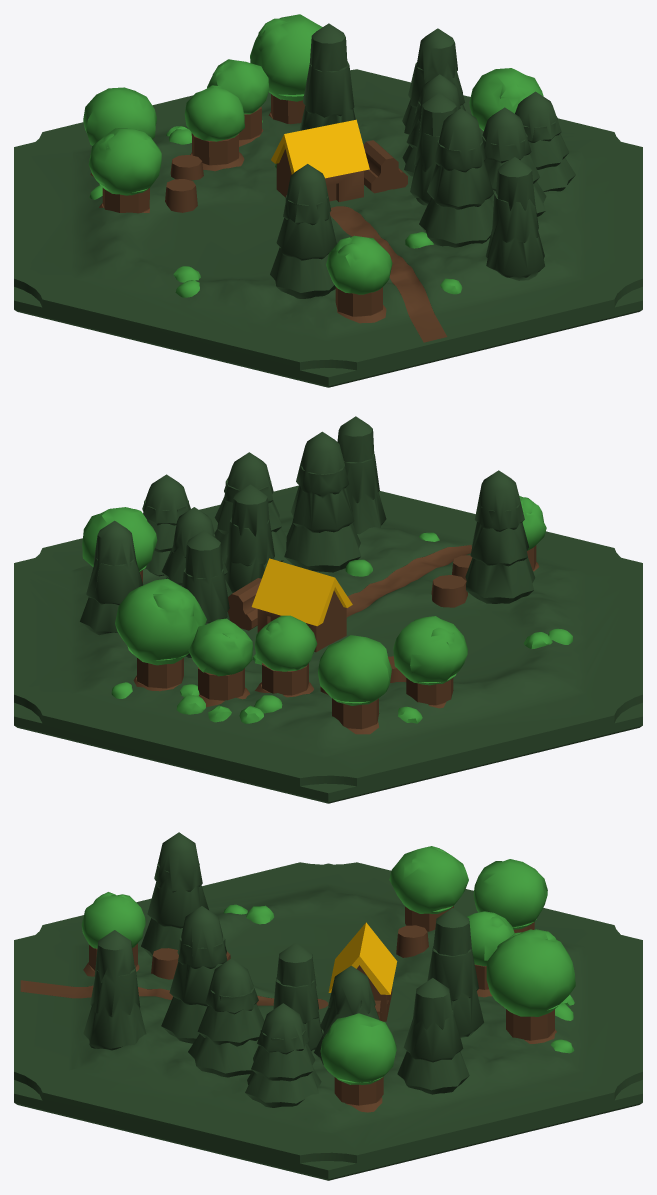
The model's file is wald_1.glb.
The picture shows the model from 3 angles, top to bottom: view 1: azimuth 30°, elevation 25°; view 2: azimuth 150°, elevation 25°; view 3: azimuth 270°, elevation 25°; orthographic projection.
Visible parts, largest first — view 1: wald_1; view 2: wald_1; view 3: wald_1.
Part boxes in pixels (x1,y1,x2,y2): wald_1: [14, 14, 642, 387]; wald_1: [14, 416, 642, 803]; wald_1: [14, 832, 642, 1180].
Size of the model in its own units: 65.24 by 15.57 by 56.5.
